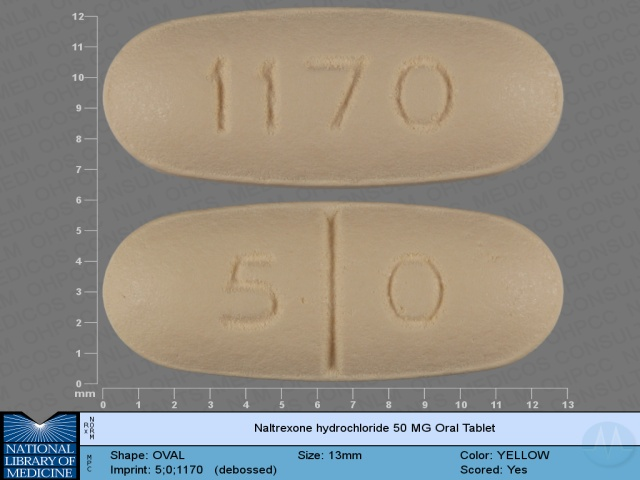0: (387, 51, 461, 134), (383, 248, 448, 329)
1: (203, 51, 240, 137), (254, 50, 287, 136)
5: (217, 243, 290, 332)
7: (302, 51, 370, 141)
|: (311, 195, 351, 384)
